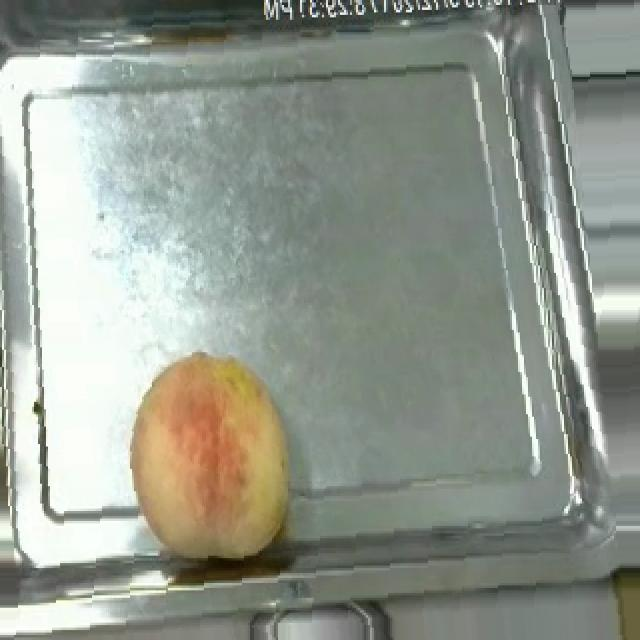Fruit: (124, 340, 304, 565)
